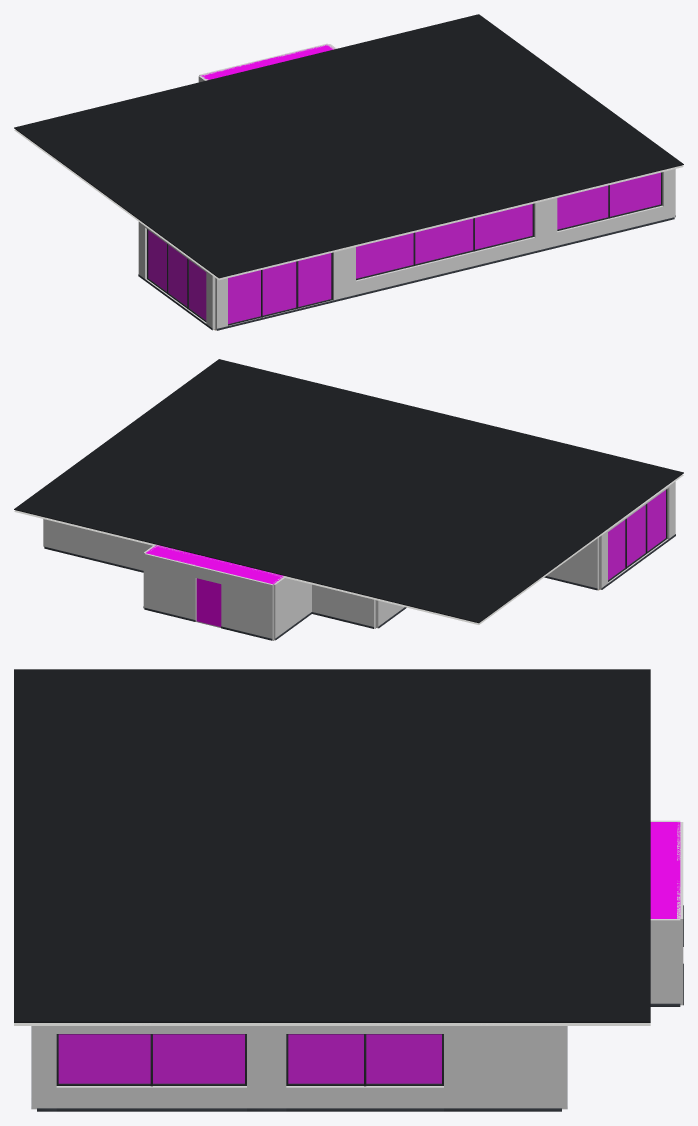
The model's file is Office.fbx.
The picture shows the model from 3 angles, top to bottom: view 1: azimuth 30°, elevation 25°; view 2: azimuth 150°, elevation 25°; view 3: azimuth 270°, elevation 25°; orthographic projection. The views are drawn at different scales.
Visible parts, largest first — view 1: NC_ceiling_back, WALL_north, ROOM_office, ROOM_bullpen, ROOM_conference, GLASS_bullpen_3, GLASS_bullpen_1, GLASS_bullpen_2, WALL_ceiling, GLASS_conference_n_1, GLASS_conference_n_2, GLASS_office_n_3 (+10 smaller); view 2: NC_ceiling_back, WALL_lobby_s, WALL_south_a, ROOM_office, ROOM_lobby, WALL_lobby_e, WALL_south_closet, WALL_ceiling, WALL_south_office, WALL_east_office, GLASS_office_e_2, GLASS_office_e_3 (+3 smaller); view 3: NC_ceiling_back, WALL_west, ROOM_conference, ROOM_breakroom, GLASS_conference_w_1, GLASS_conference_w_2, GLASS_breakroom_1, GLASS_breakroom_2, ROOM_lobby, WALL_lobby_w, NC_BASE_west, WALL_ceiling (+3 smaller).
Part boxes in pixels (x1,y1,x2,y2): NC_ceiling_back: (14, 14, 683, 278); WALL_north: (215, 169, 674, 330); ROOM_office: (148, 230, 331, 323); ROOM_bullpen: (356, 204, 532, 278); ROOM_conference: (557, 172, 660, 229); GLASS_bullpen_3: (356, 233, 413, 277); GLASS_bullpen_1: (475, 204, 531, 248); GLASS_bullpen_2: (416, 219, 472, 263); WALL_ceiling: (14, 130, 683, 280); GLASS_conference_n_1: (610, 173, 660, 216); GLASS_conference_n_2: (558, 186, 607, 228); GLASS_office_n_3: (228, 270, 260, 323); NC_ceiling_back: (14, 359, 683, 623); WALL_lobby_s: (144, 553, 273, 640); WALL_south_a: (44, 519, 152, 570); ROOM_office: (608, 490, 665, 579); ROOM_lobby: (145, 545, 283, 626); WALL_lobby_e: (273, 576, 311, 640); WALL_south_closet: (319, 586, 375, 628); WALL_ceiling: (14, 474, 683, 624); WALL_south_office: (546, 537, 598, 589); WALL_east_office: (599, 480, 675, 589); GLASS_office_e_2: (627, 505, 645, 565); GLASS_office_e_3: (648, 490, 665, 550); NC_ceiling_back: (14, 669, 650, 1022); WALL_west: (37, 1024, 561, 1108); ROOM_conference: (58, 1034, 244, 1083); ROOM_breakroom: (288, 1034, 441, 1083); GLASS_conference_w_1: (153, 1035, 244, 1083); GLASS_conference_w_2: (59, 1035, 149, 1083); GLASS_breakroom_1: (367, 1035, 441, 1083); GLASS_breakroom_2: (289, 1035, 363, 1083); ROOM_lobby: (650, 822, 680, 918); WALL_lobby_w: (650, 919, 680, 1003); NC_BASE_west: (37, 1108, 561, 1111); WALL_ceiling: (14, 1023, 650, 1025).
Size of the model in its own units: 25.4 by 3.09 by 20.42.
